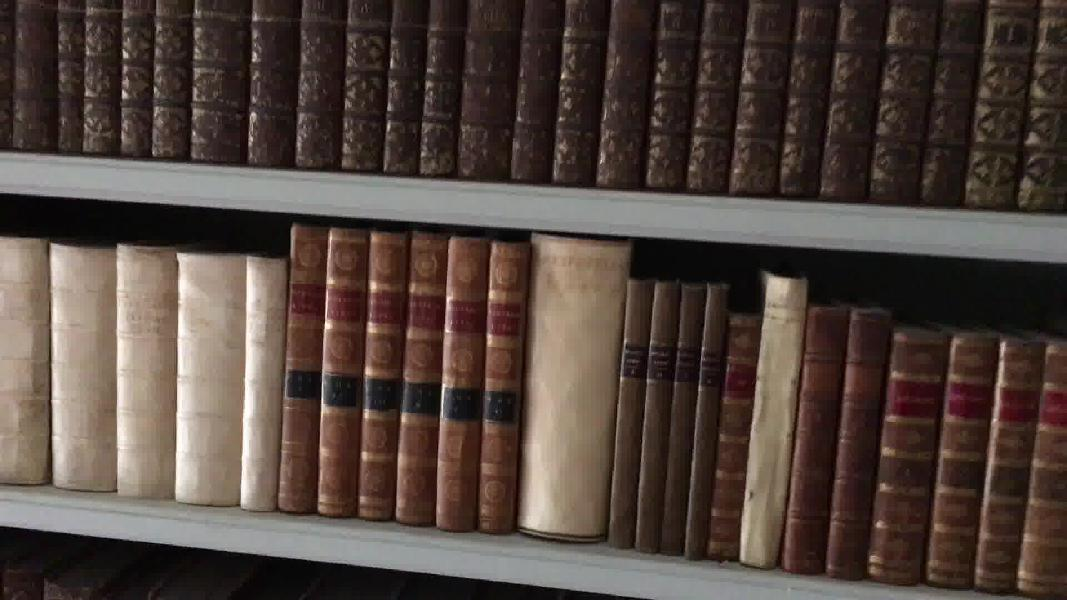Kk4-14: (520, 234, 627, 543)
Kk4-15_16: (613, 277, 678, 549)
Kk4-17_18: (667, 273, 718, 558)
Kk4-19: (711, 304, 763, 565)
Kk4-20: (746, 266, 806, 571)
Kk4-21_22: (781, 298, 892, 580)
Kk4-23_26: (869, 326, 1067, 593)
Kk4-3_7: (1, 230, 284, 512)
Kk4-8_13: (281, 222, 527, 535)
